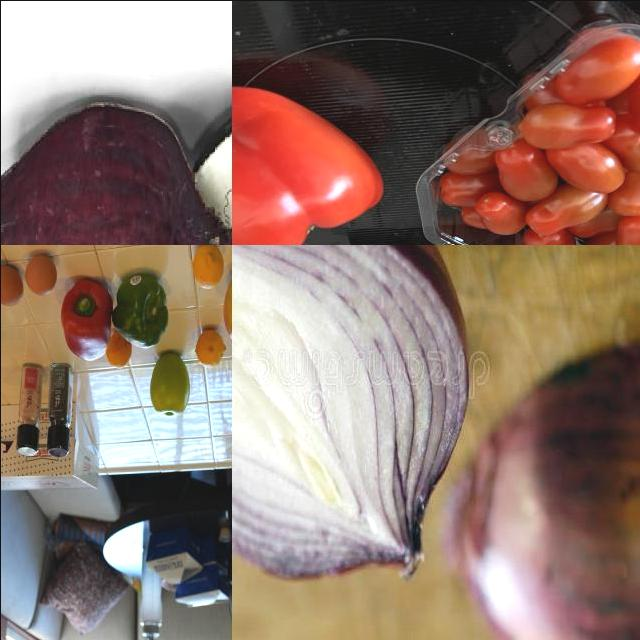beet: (1, 108, 232, 245)
bell_pepper: (232, 76, 385, 245), (54, 275, 118, 363), (112, 273, 174, 349), (41, 361, 75, 462)
egg: (23, 251, 60, 298), (1, 263, 26, 310)
onion: (232, 245, 477, 584)
tomato: (428, 36, 640, 245)
